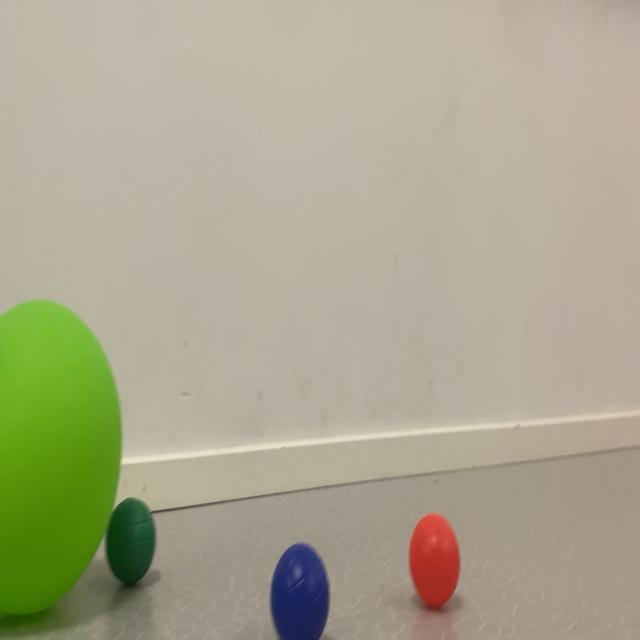7: (388, 498, 469, 629)
blue ball: (102, 489, 478, 640)
green ball: (250, 512, 354, 640)
red ball: (99, 459, 178, 599)
